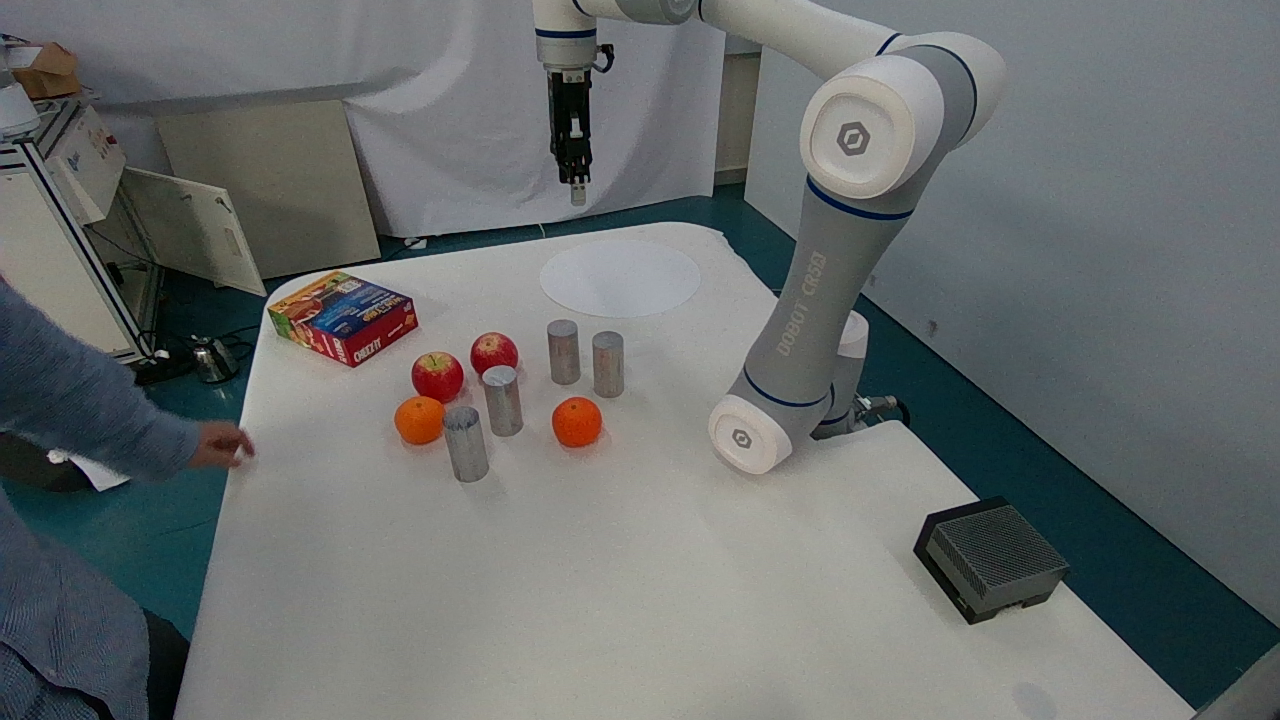apple: (408, 344, 467, 408), (462, 322, 522, 384)
metal rod: (430, 391, 497, 488), (469, 351, 535, 444), (534, 303, 585, 390), (582, 322, 633, 399)
orange: (539, 389, 611, 455), (387, 377, 448, 443)
